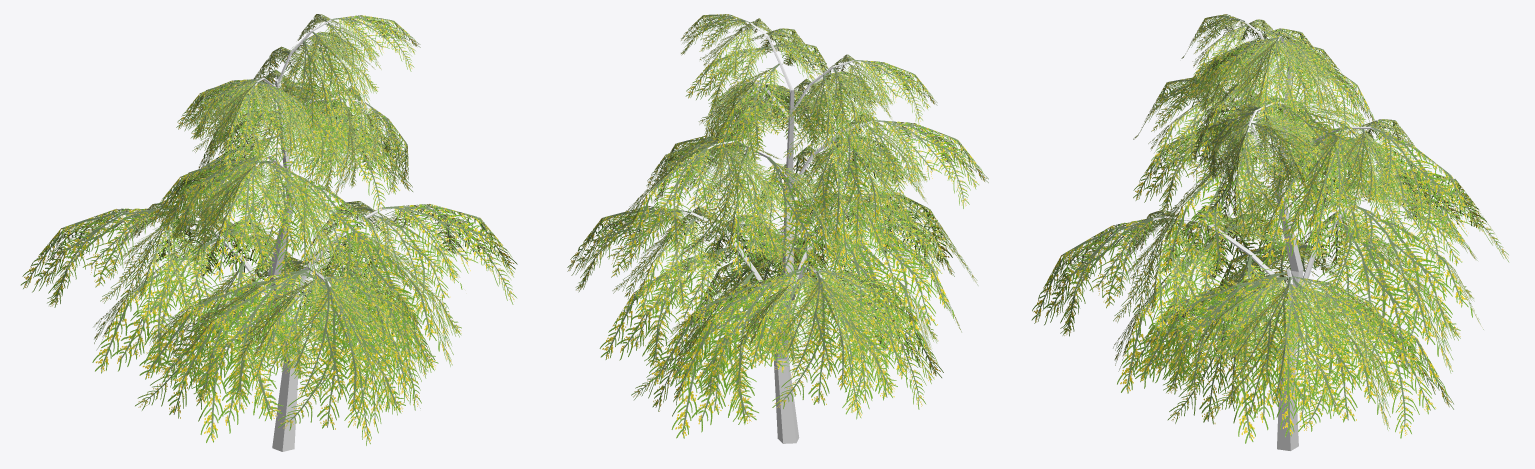
Rendered from cinnamon_wattle.fbx.
3 renders of one model, left to right at view 1: azimuth 30°, elevation 25°; view 2: azimuth 150°, elevation 25°; view 3: azimuth 270°, elevation 25°, orthographic. The views are drawn at different scales.
Parts seen in each view (by area): view 1: cinnamon_wattle_leaves_LOD0, cinnamon_wattle_LOD0; view 2: cinnamon_wattle_leaves_LOD0, cinnamon_wattle_LOD0; view 3: cinnamon_wattle_leaves_LOD0, cinnamon_wattle_LOD0.
Part boxes in pixels (x1,y1,x2,y2): cinnamon_wattle_leaves_LOD0: (20,14,517,445); cinnamon_wattle_LOD0: (156,18,391,451); cinnamon_wattle_leaves_LOD0: (567,14,988,438); cinnamon_wattle_LOD0: (681,21,881,443); cinnamon_wattle_leaves_LOD0: (1031,14,1509,443); cinnamon_wattle_LOD0: (1153,20,1380,450).
Size of what is drawn, in the model's own units: 603 by 566 by 590.
